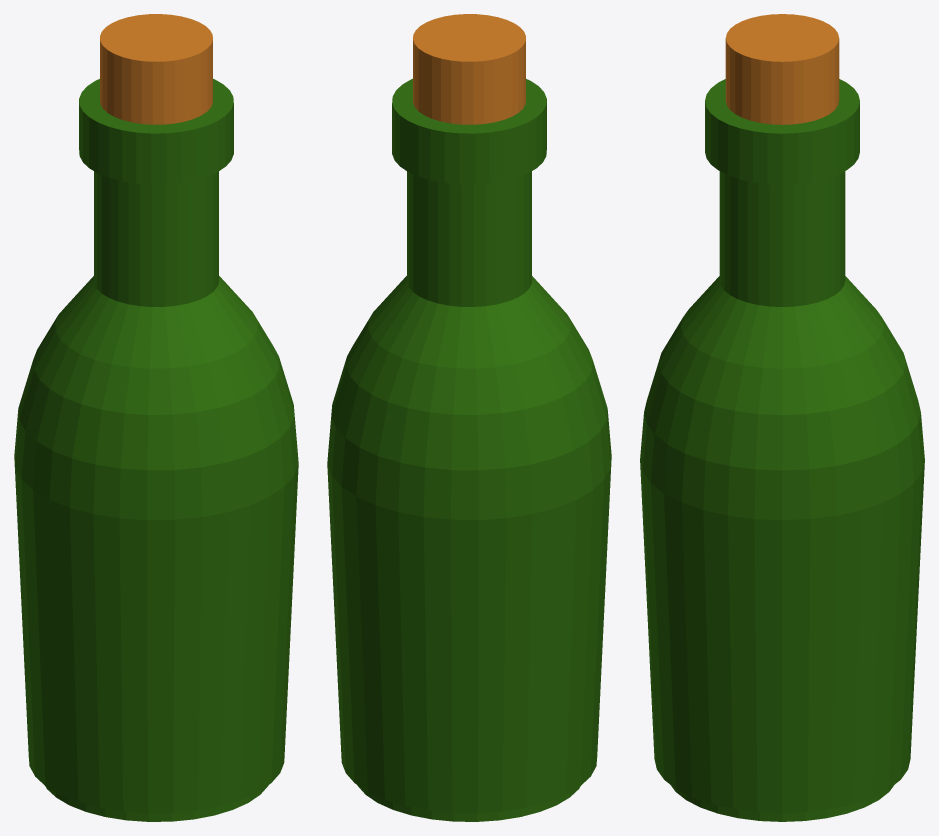
The model's file is Prop_Laboratorio_botella1.fbx.
The picture shows the model from 3 angles, left to right: view 1: azimuth 30°, elevation 25°; view 2: azimuth 150°, elevation 25°; view 3: azimuth 270°, elevation 25°; orthographic projection.
Parts seen in each view (by area): view 1: Botella3.018; view 2: Botella3.018; view 3: Botella3.018.
Part boxes in pixels (left/top/right/bottom): Botella3.018: left=14, top=14, right=298, bottom=821; Botella3.018: left=327, top=14, right=611, bottom=821; Botella3.018: left=640, top=14, right=924, bottom=821.
Bounding box in the file's own units: 198 × 564 × 198.
